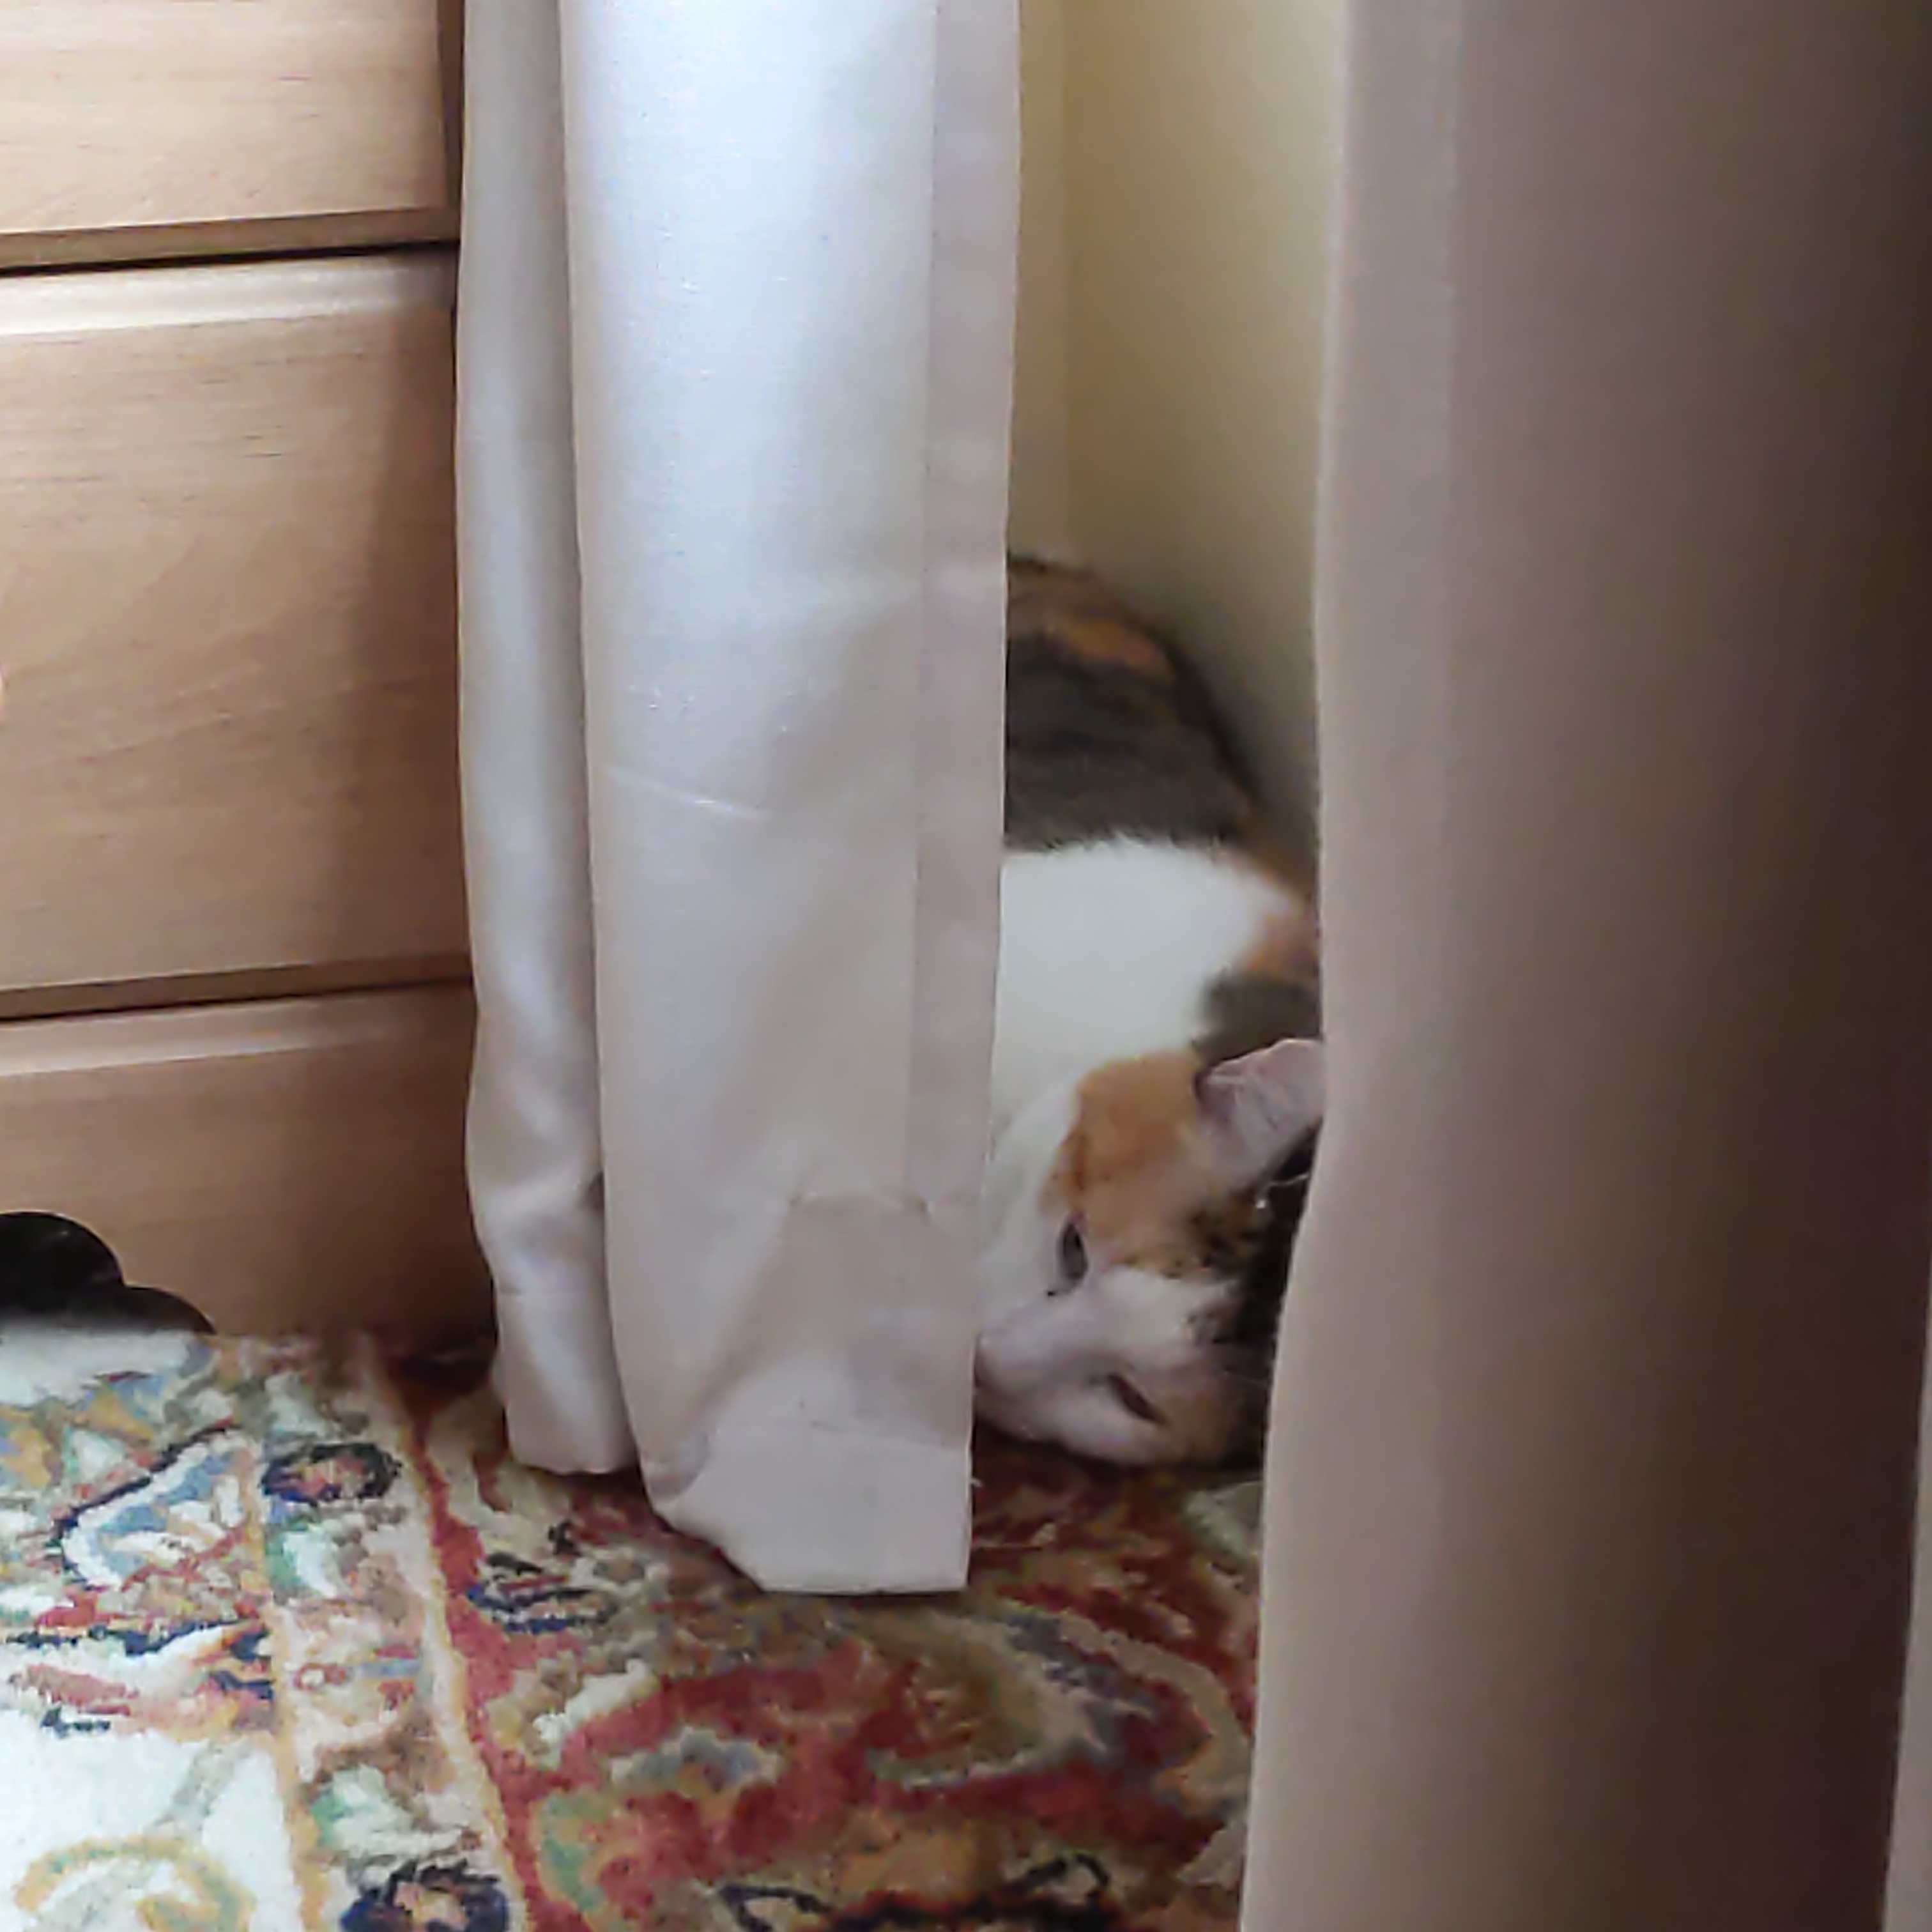Calico: (975, 552, 1325, 1470)
